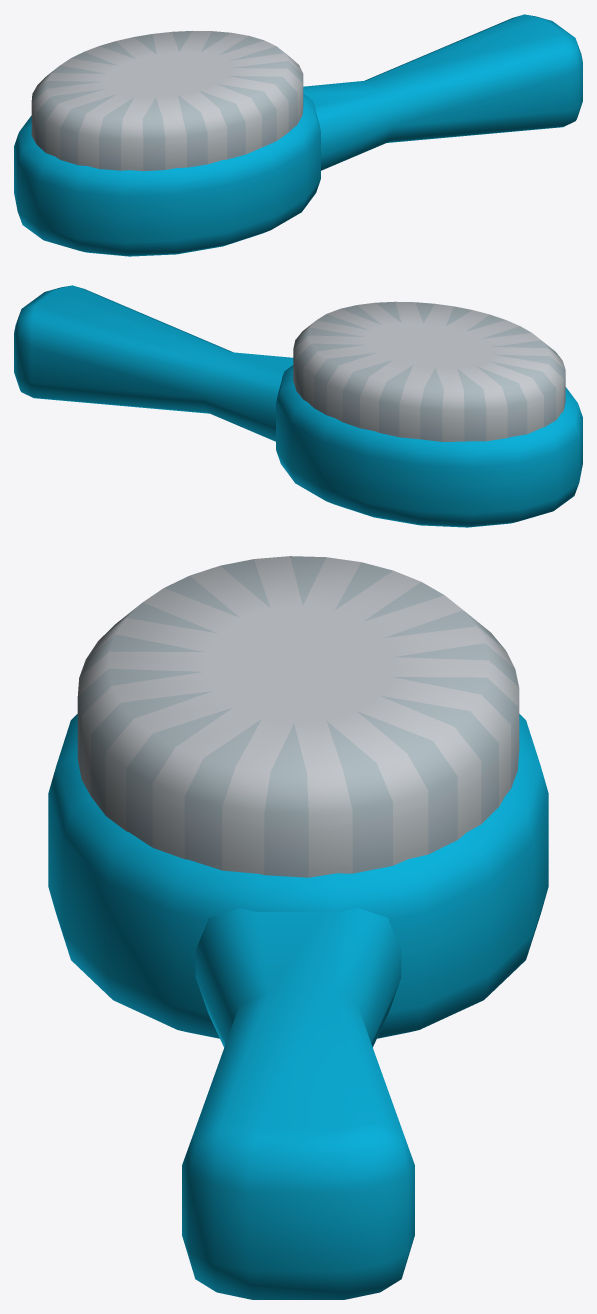
File: Brush_01.glb
3 renders of one model, top to bottom at view 1: azimuth 30°, elevation 25°; view 2: azimuth 150°, elevation 25°; view 3: azimuth 270°, elevation 25°, orthographic. The views are drawn at different scales.
Visible parts, largest first — view 1: Brush_01; view 2: Brush_01; view 3: Brush_01.
Part boxes in pixels (box(x1,y1,x2,y2)): Brush_01: box(14, 14, 582, 256); Brush_01: box(14, 285, 582, 527); Brush_01: box(48, 556, 548, 1299).
Bounding box in the file's own units: 0.2083 × 0.0482 × 0.0835.
Materials: 1 (1 with a texture image).
